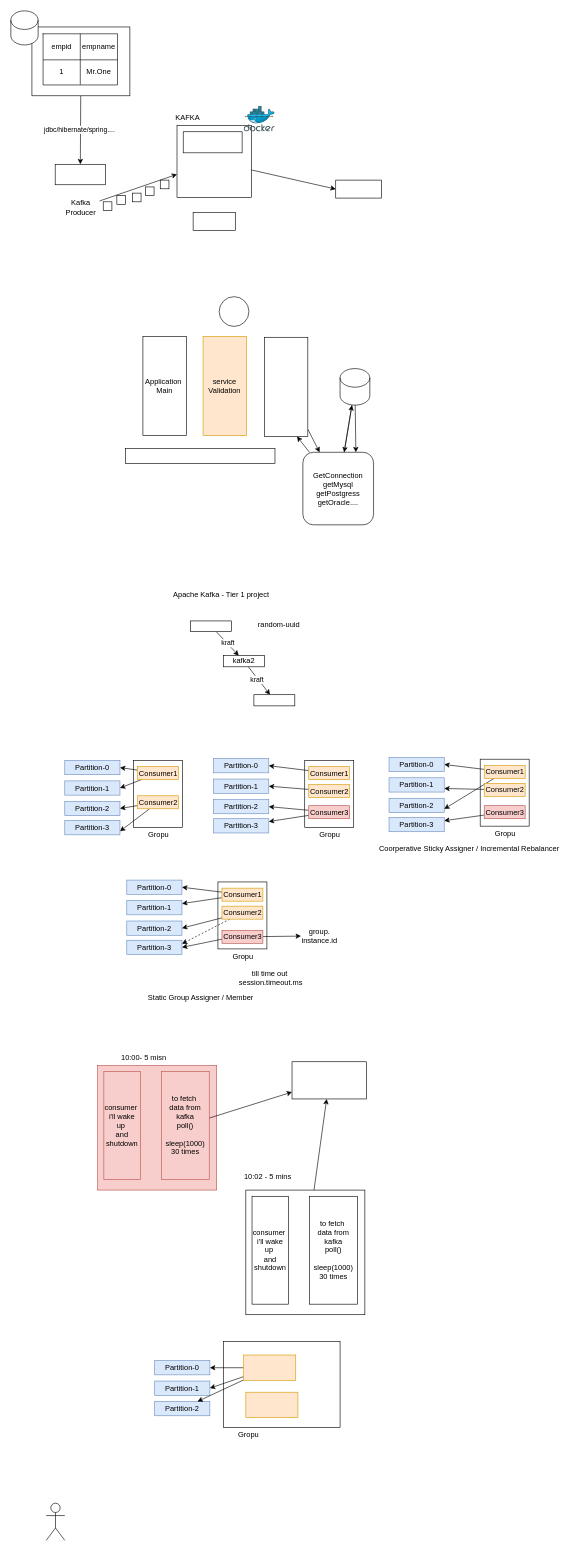
This 573x1564 diagram has some shape labels left out. The box of each missing label's shape, as (x1, y1, x2, y2) in pixels:
Actor: (46, 1503, 65, 1540)
Bean: (219, 296, 249, 326)
broker.1: (183, 131, 242, 153)
consumer: (335, 179, 382, 198)
Consumer1-Java: (243, 1354, 296, 1380)
Consumer2-Java: (245, 1392, 298, 1418)
DAO dont have validation: (264, 337, 308, 436)
DB: (339, 368, 370, 405)
Interface: (125, 448, 275, 463)
JavaProgram: (55, 164, 105, 185)
kafka cluster: (291, 1061, 366, 1099)
kafka1: (190, 620, 232, 631)
kafka3: (253, 694, 295, 706)
mysql: (10, 10, 38, 45)
Zookeeper: (193, 212, 235, 230)
